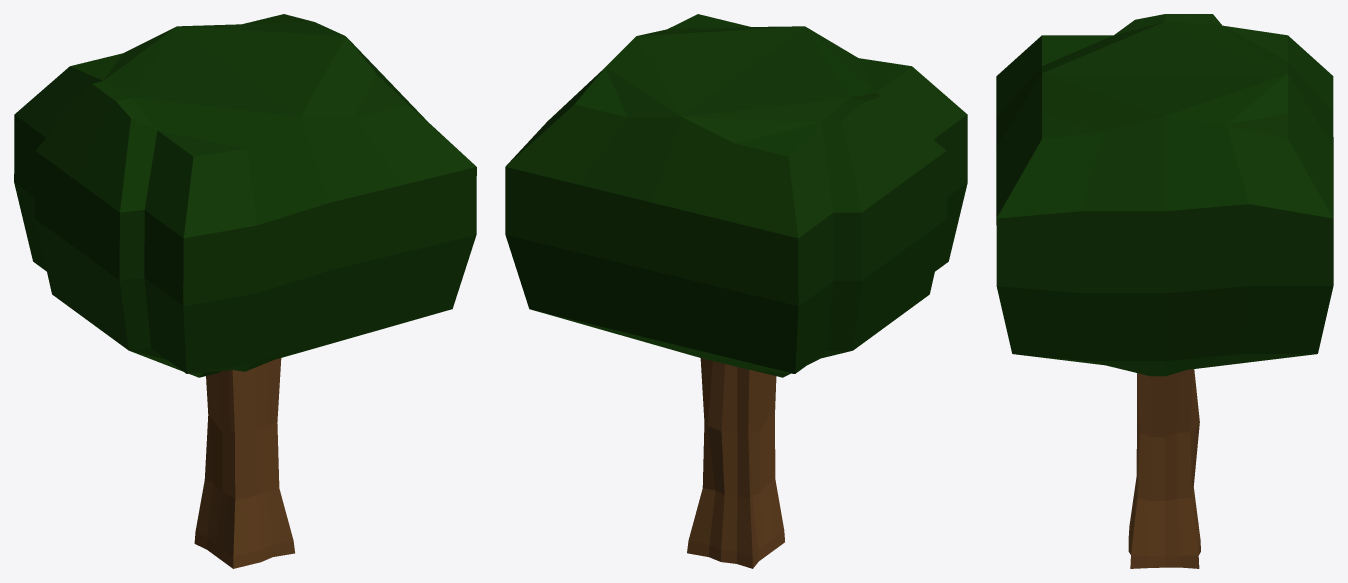
Rendered from Tree.fbx.
3 views of the same model, side by side, from view 1: azimuth 30°, elevation 25°; view 2: azimuth 150°, elevation 25°; view 3: azimuth 270°, elevation 25° (orthographic).
Parts seen in each view (by area): view 1: Tree; view 2: Tree; view 3: Tree.
Part boxes in pixels (x1,y1,x2,y2): Tree: (14,14,476,568); Tree: (505,14,967,568); Tree: (996,14,1333,568).
Bounding box in the file's own units: 1292 × 1914 × 1203.
